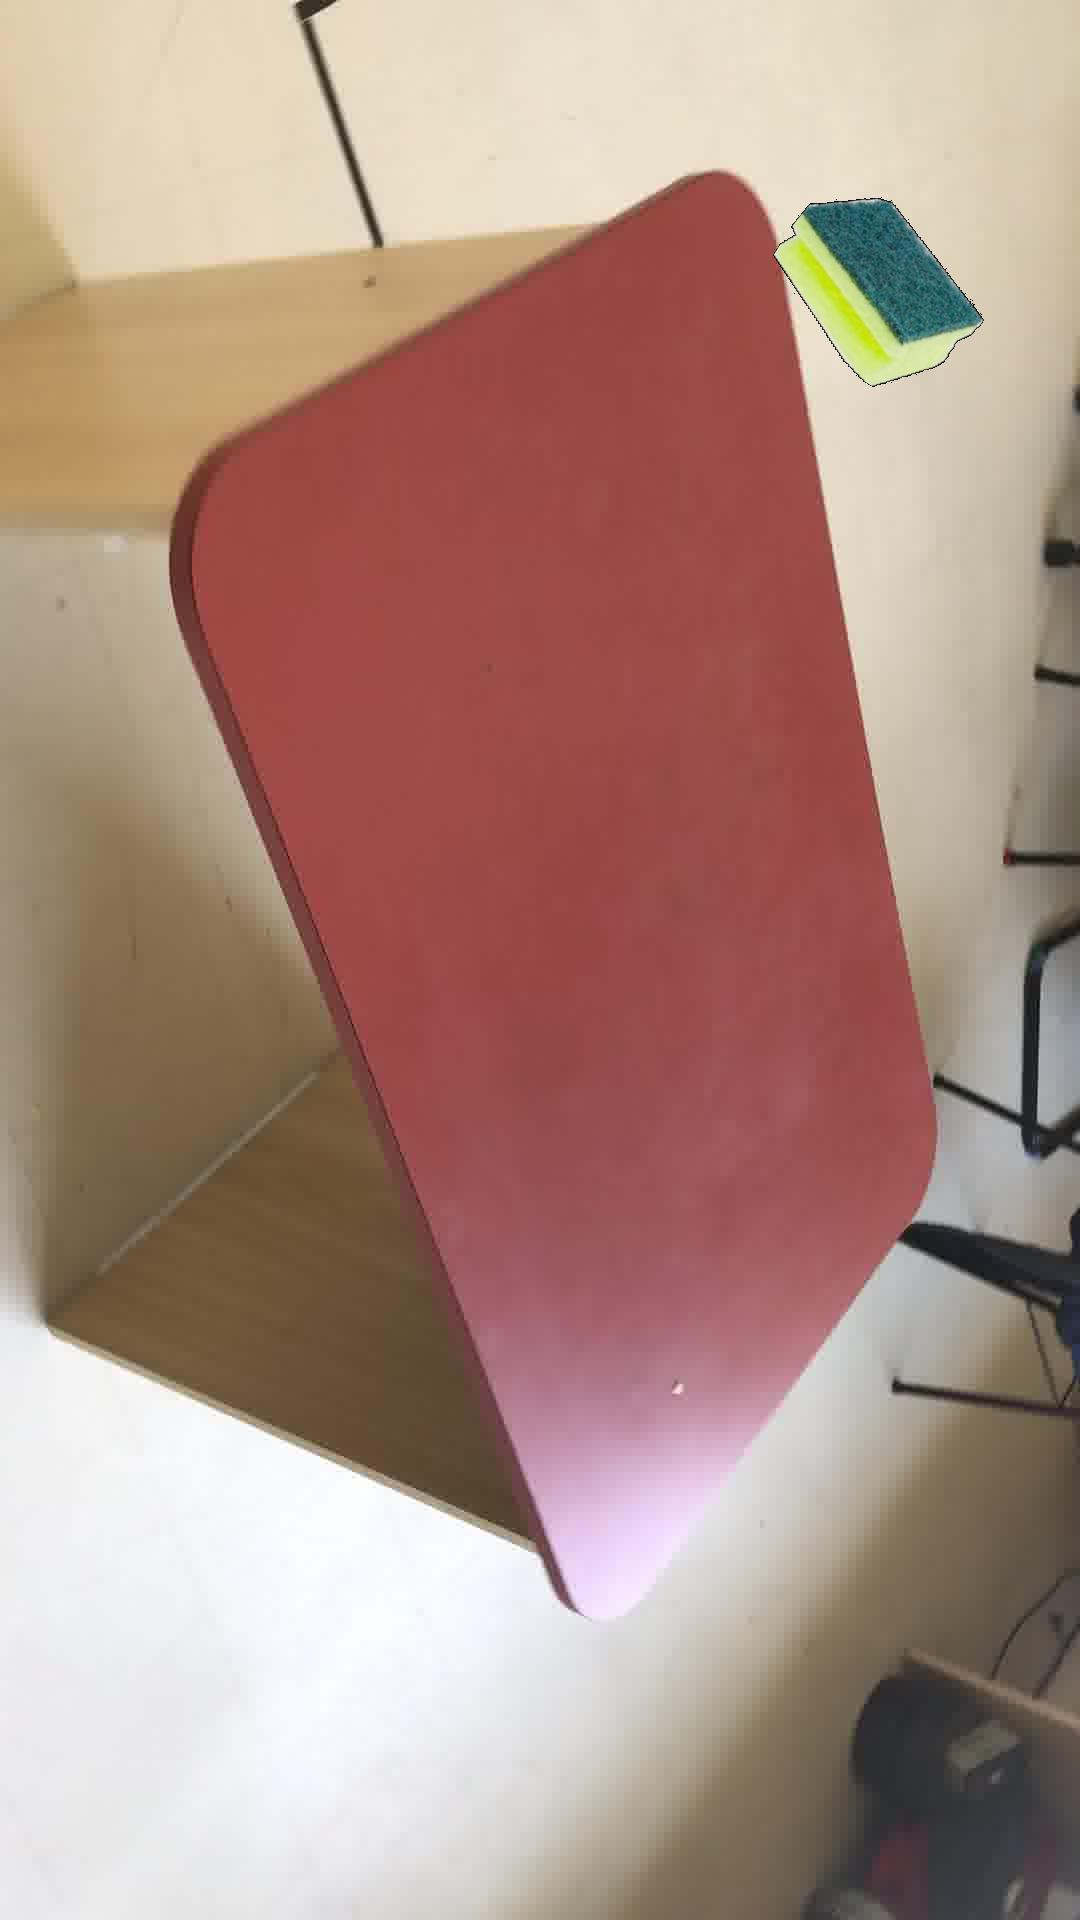sponge: (771, 196, 982, 385)
